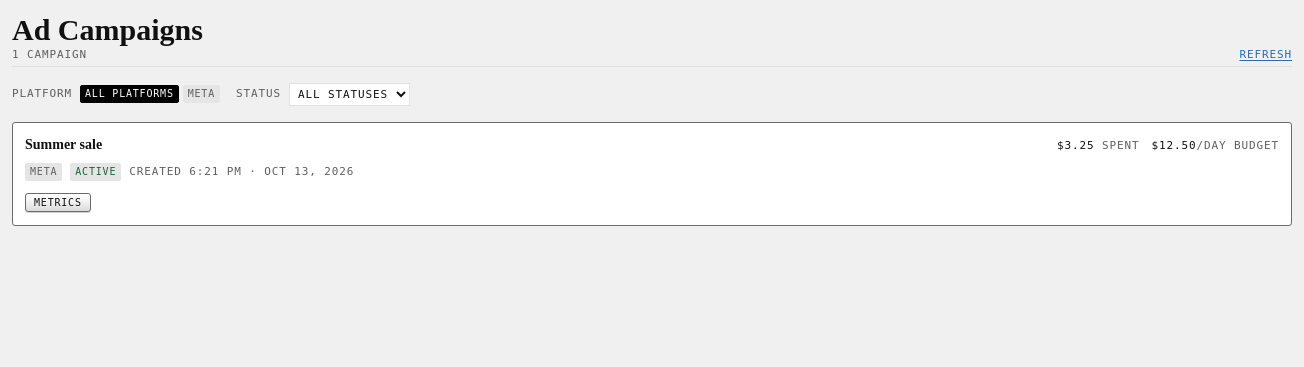
V25/L4 — ads revenue/ROAS render null and measured zero distinctly › renders the em dash ONLY for null, never for a measured zero
Check: the element with test id "campaign-row" is shown, box [12,122,1292,226]
Click the button with test id "campaign-metrics-toggle-7": (58,203) [25,193,91,212]
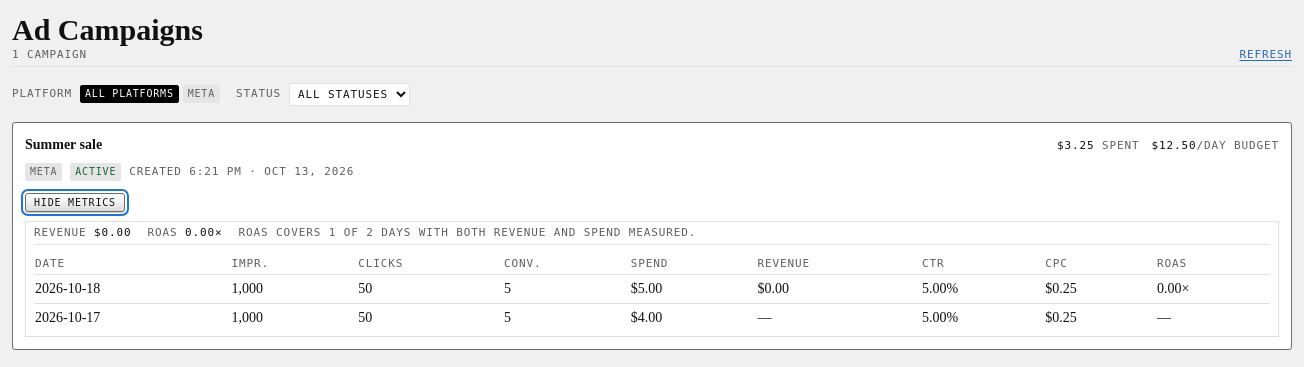
Check: the text with test id "campaign-revenue-7" reads "$0.00", box [94,226,132,239]
Check: the text with test id "campaign-roas-7" reads "0.00×", box [185,226,223,239]
Check: the element with test id "campaign-metrics-7" shows "—", box [758,310,772,325]
